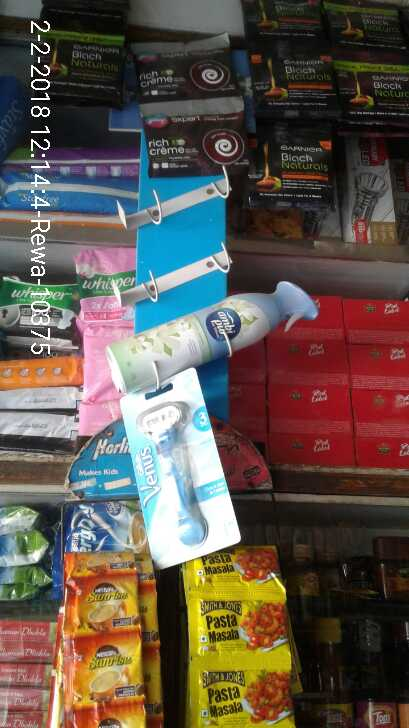beauty: (118, 381, 230, 552)
home: (88, 273, 327, 387)
